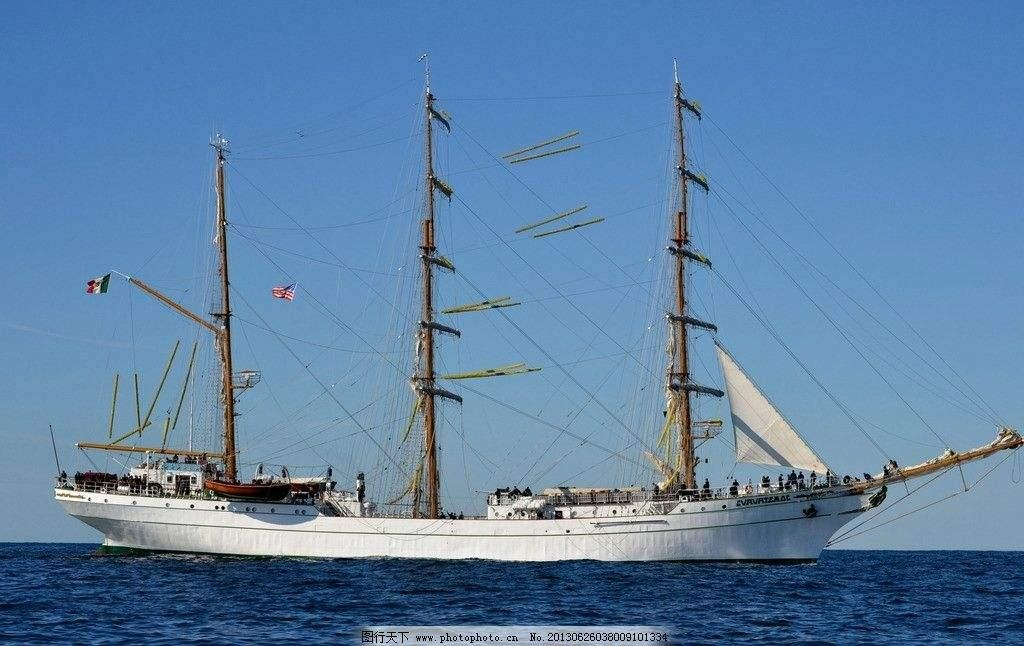fanchuan: (47, 54, 1017, 555)
